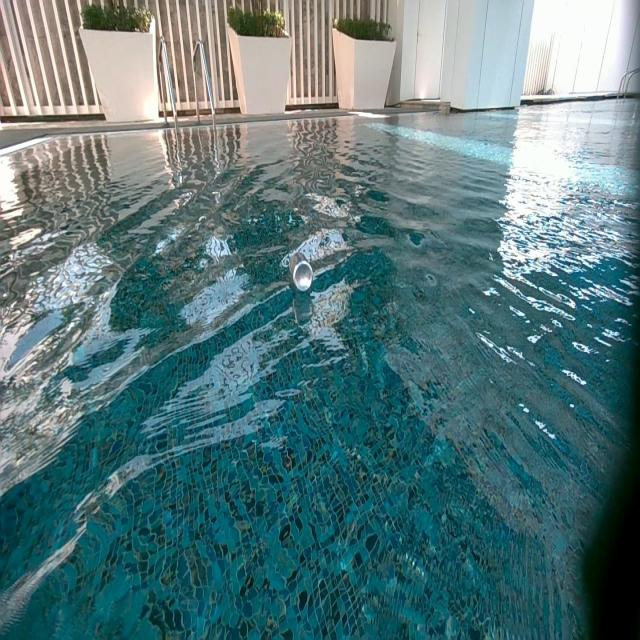Cans: (290, 251, 314, 294)
